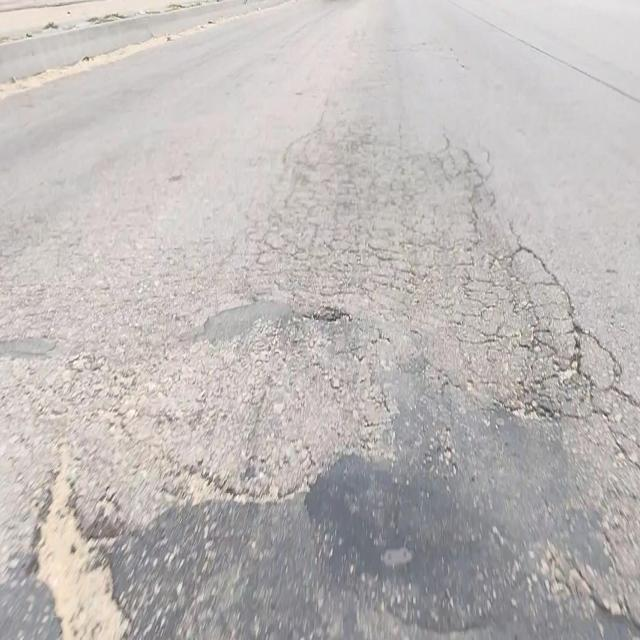Potholes: (26, 447, 137, 640)
